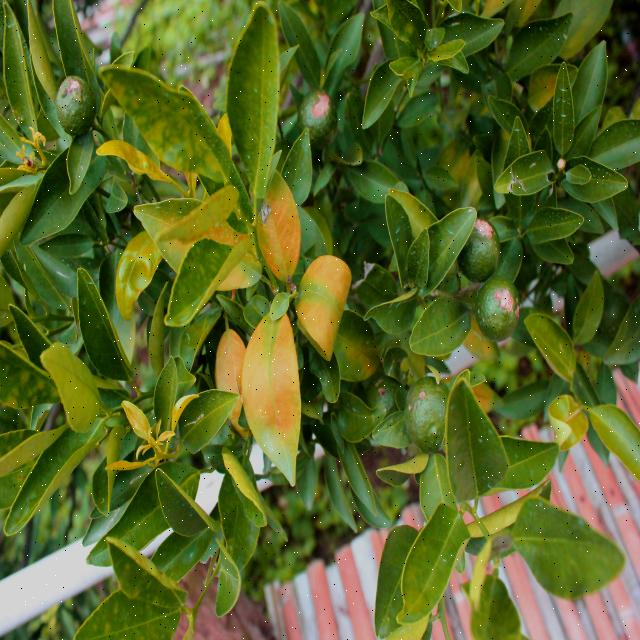greening: (101, 58, 231, 193), (243, 319, 306, 470), (154, 232, 246, 323), (256, 172, 300, 286), (301, 255, 348, 353)
